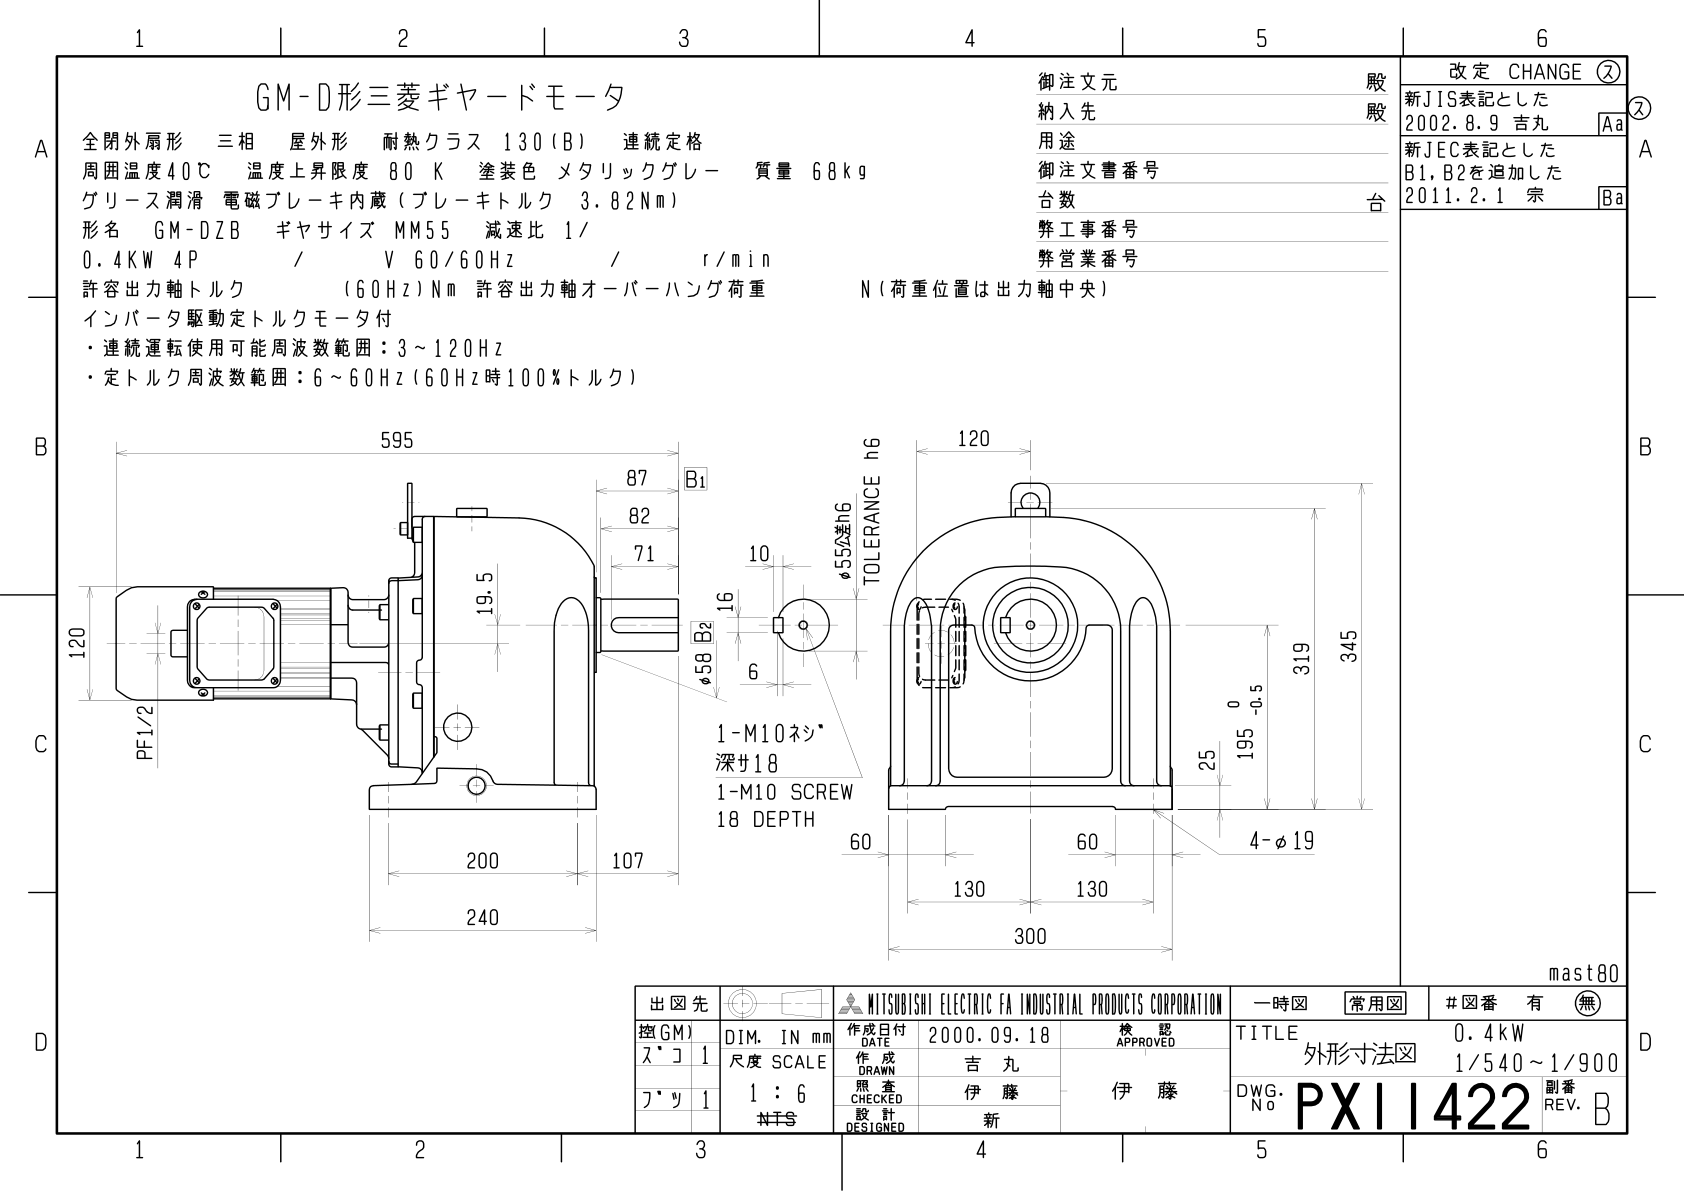GM_D_インバータ屋外_三相_脚: (61, 402, 1383, 965)
